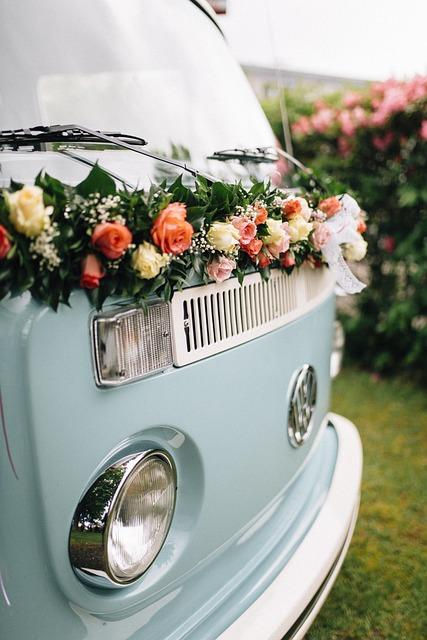Non_Gorille: (0, 40, 414, 626)
